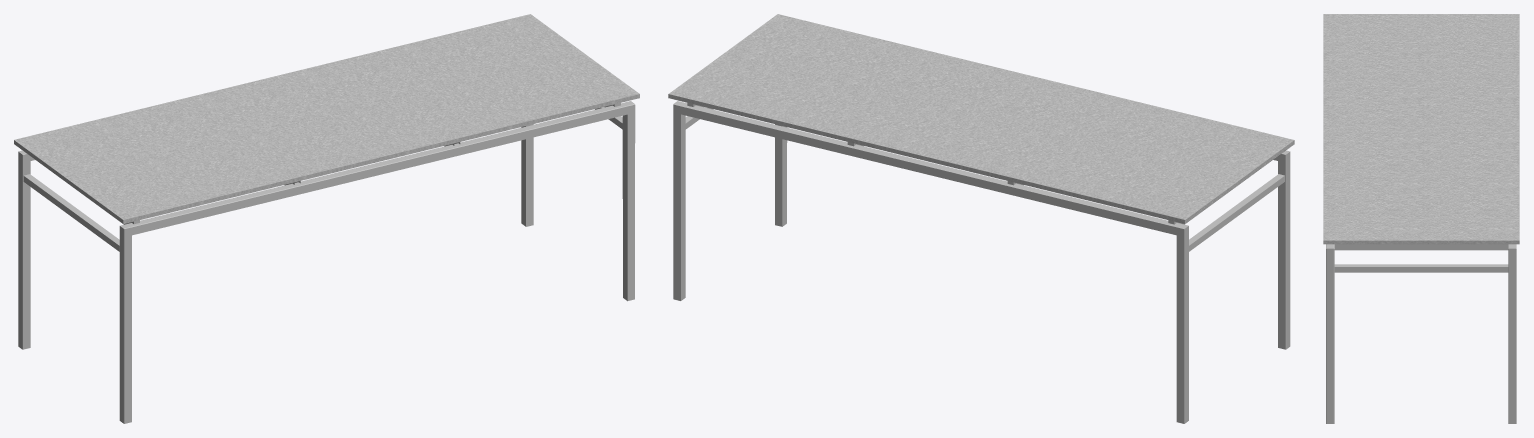
File: Office_Desk.fbx
3 renders of one model, left to right at view 1: azimuth 30°, elevation 25°; view 2: azimuth 150°, elevation 25°; view 3: azimuth 270°, elevation 25°, orthographic. The views are drawn at different scales.
Visible parts, largest first — view 1: Office_Desk; view 2: Office_Desk; view 3: Office_Desk.
Boxes of the visible parts, x1,y1,x2,y2 form: Office_Desk: [14, 14, 639, 423]; Office_Desk: [668, 14, 1294, 423]; Office_Desk: [1323, 14, 1519, 423].
Bounding box in the file's own units: 199 × 75.74 × 72.9.
